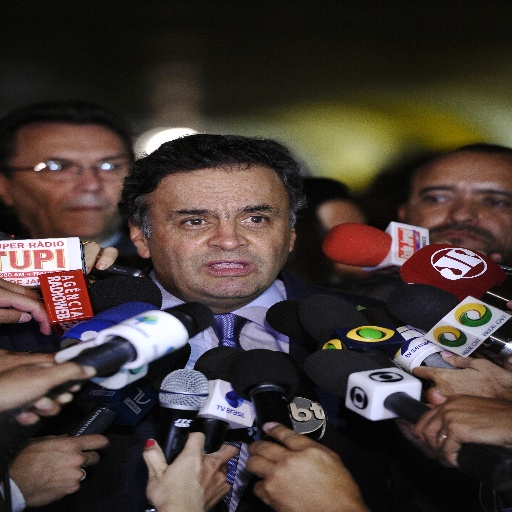hand: (235, 429, 376, 510), (6, 432, 110, 509), (408, 394, 511, 470), (143, 430, 234, 511), (0, 359, 98, 427), (410, 349, 511, 400), (0, 276, 52, 336), (81, 239, 121, 275), (0, 349, 62, 371)
